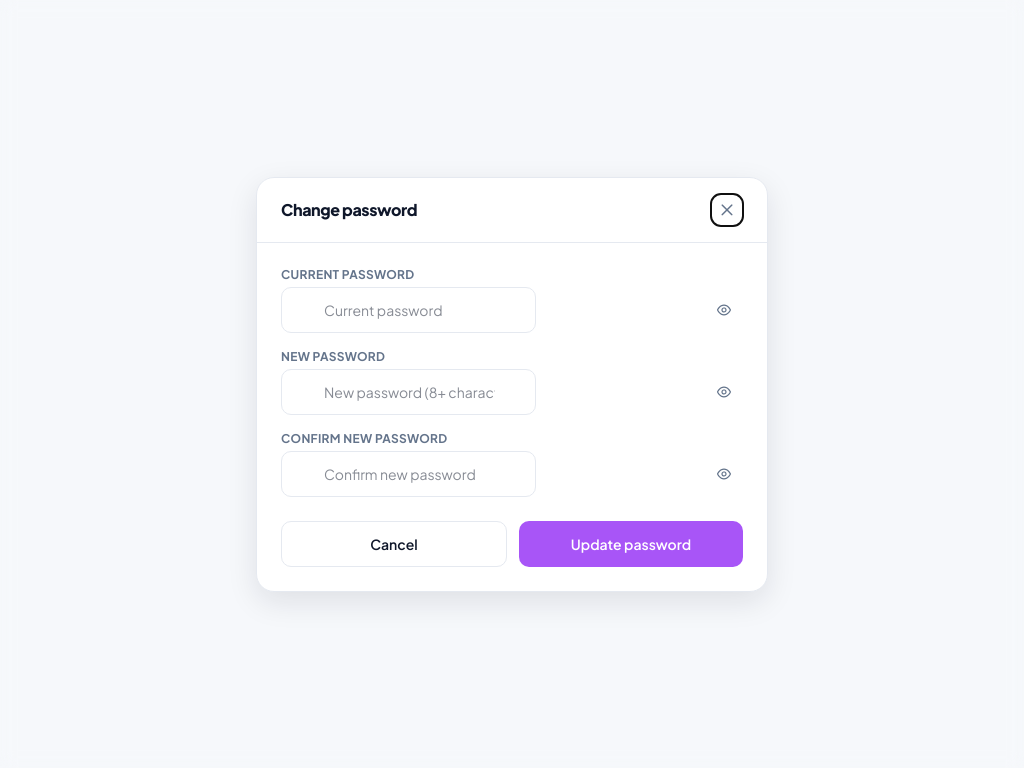
ChangePasswordModal › shows a validation error when the new passwords do not match
Step 1. Type "OldPassw0rd!" into the password field with placeholder "Current password" → (408, 310), box [281,286,536,332]
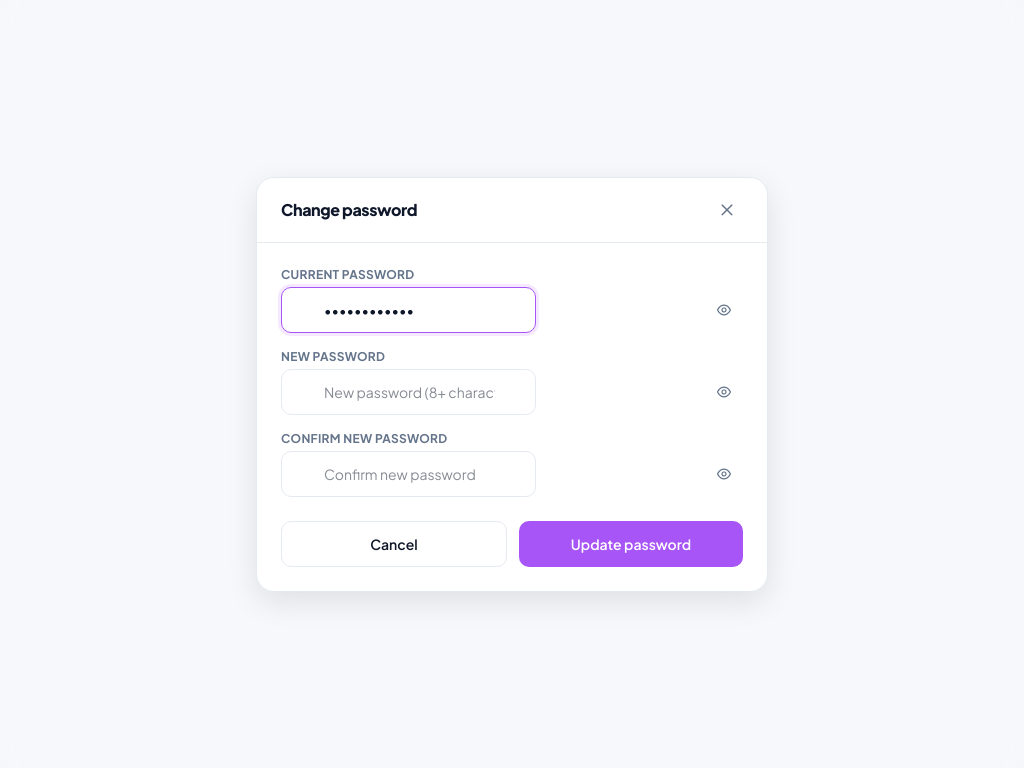
Step 2. Type "NewPassw0rd!23" into the password field with placeholder "New password (8+ characters)" → (408, 392), box [281,368,536,414]
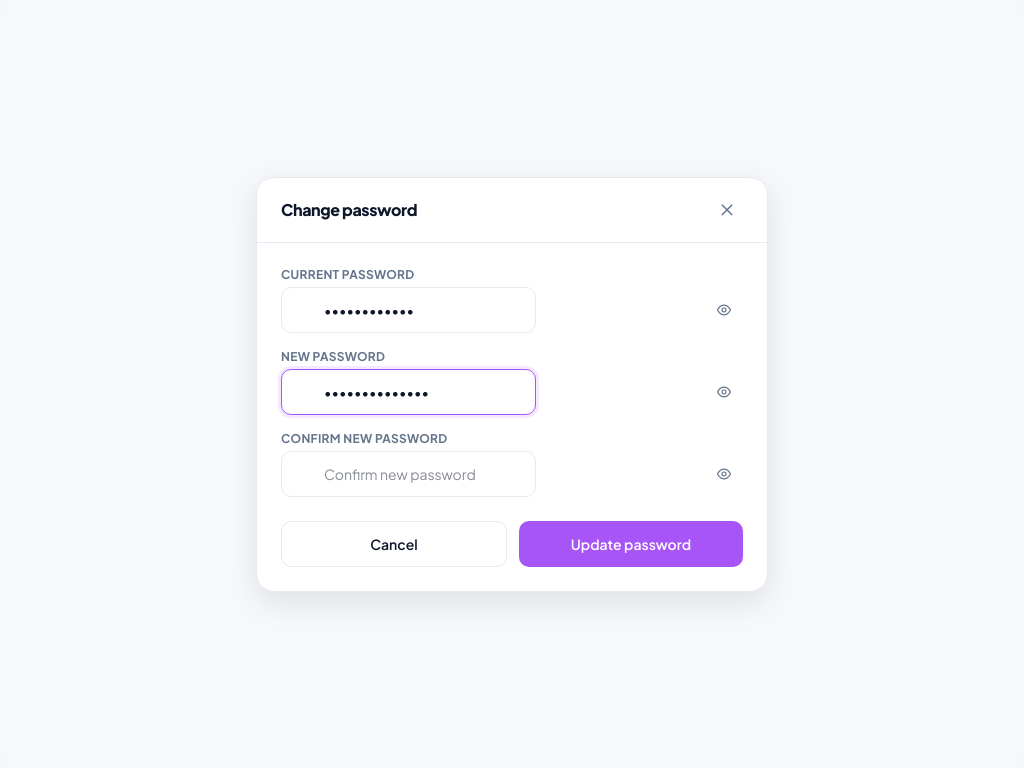
Step 3. Type "Different1!" into the password field with placeholder "Confirm new password" → (408, 474), box [281,450,536,496]
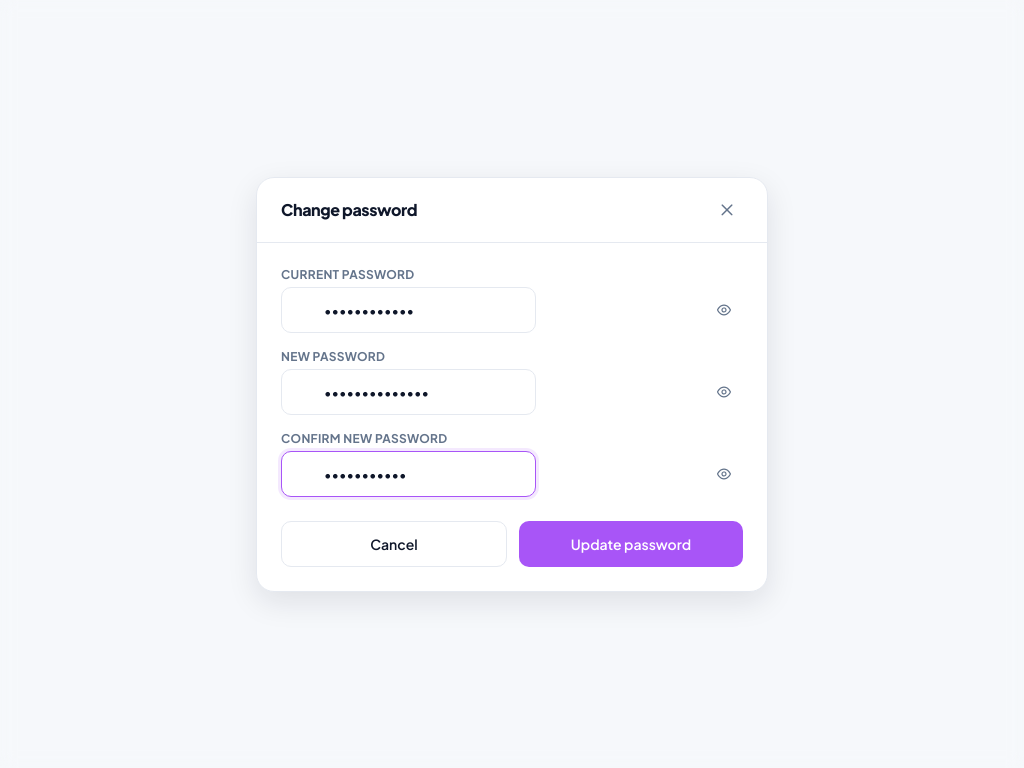
Step 4. Click the button "Update password" → (631, 544), box [519,520,743,566]
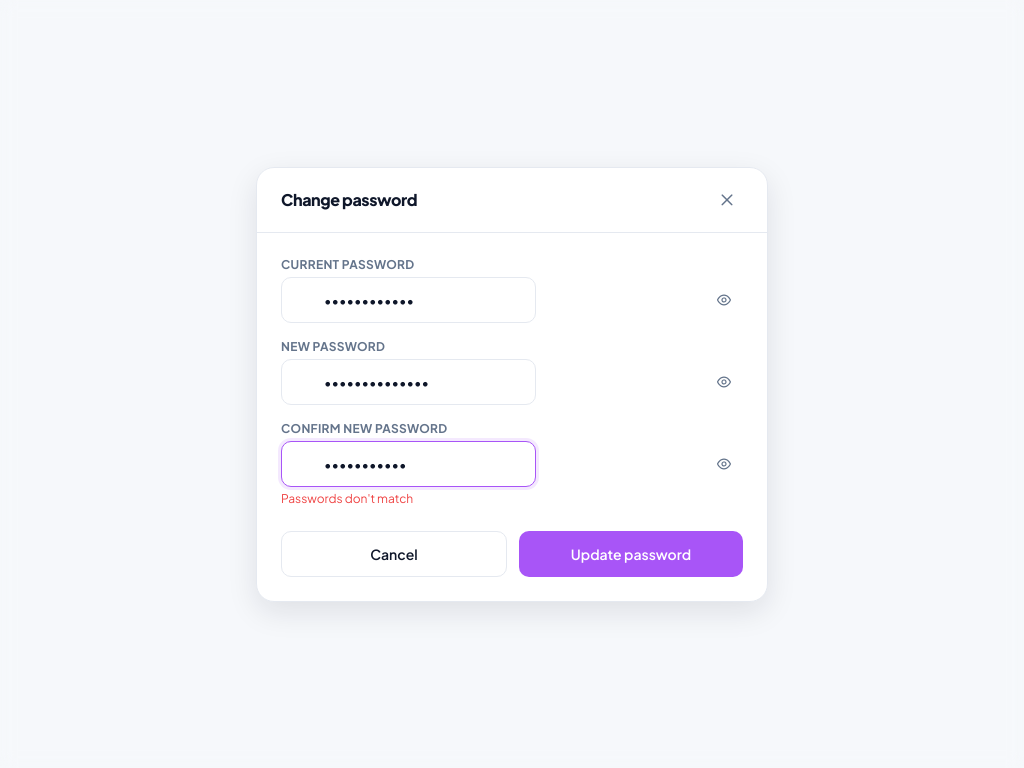
Result: the text "Passwords don't match" is shown at [281,490,413,506]
